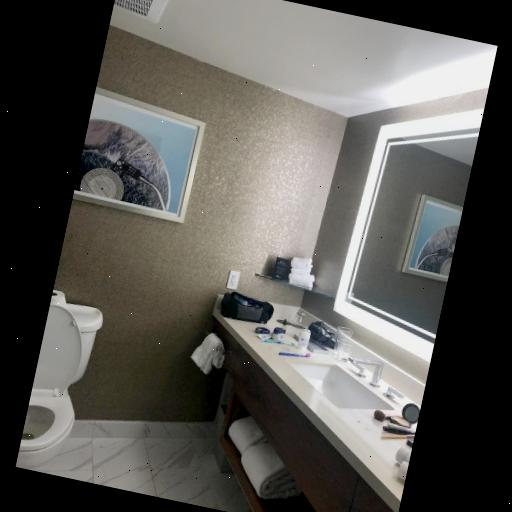clean mirror: (341, 131, 480, 342)
clean_toilet: (12, 291, 106, 476)
folded_towel: (227, 410, 296, 499), (188, 331, 222, 378), (282, 255, 319, 294)
